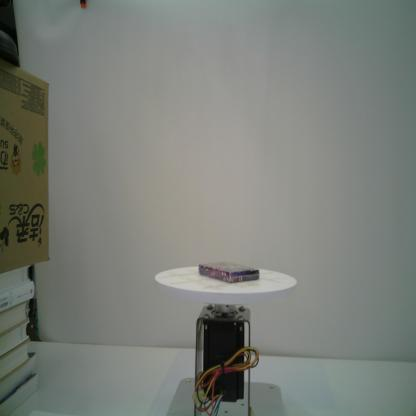Gum: (198, 257, 262, 284)
